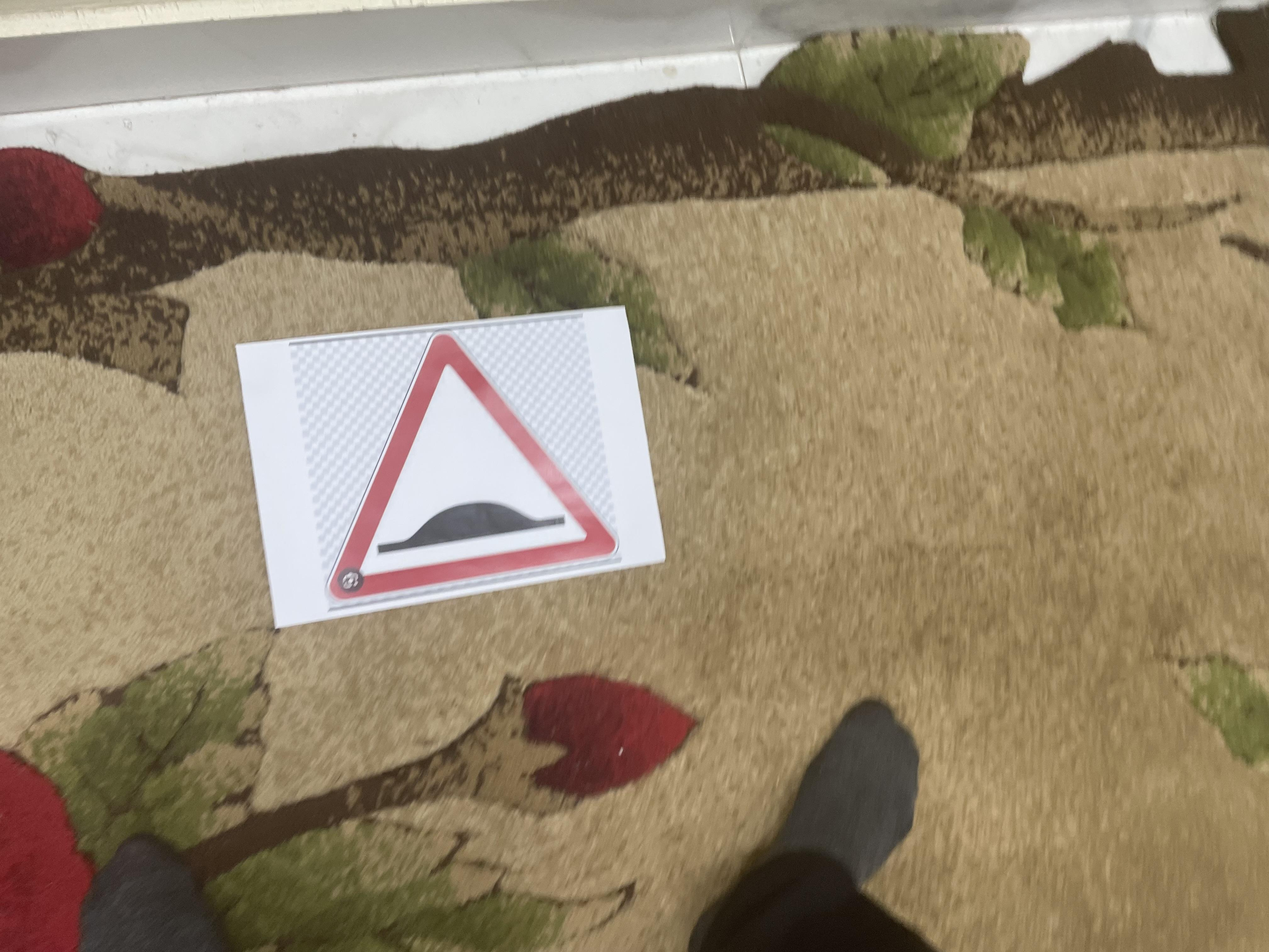Hump: (472, 241, 832, 468)
